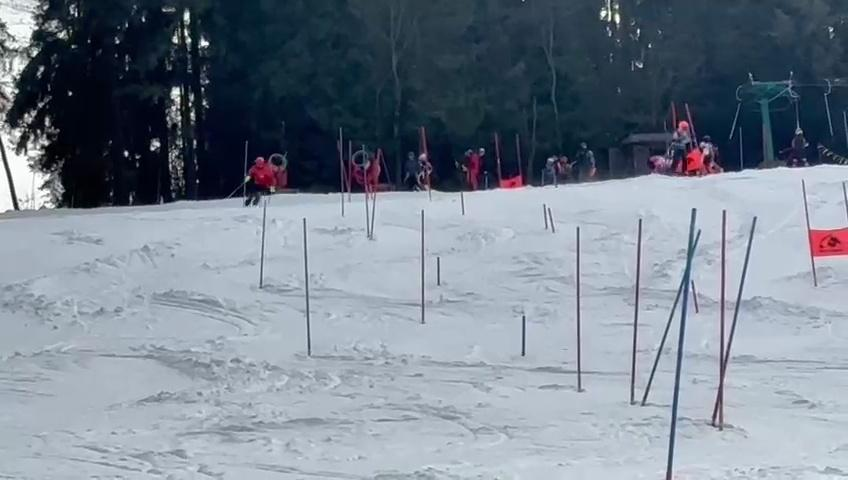gate: (656, 203, 700, 480), (642, 218, 704, 411), (714, 203, 757, 450), (294, 214, 328, 358), (566, 223, 594, 397), (623, 203, 645, 405), (796, 175, 828, 297), (362, 151, 392, 257), (413, 201, 434, 322), (417, 123, 435, 200), (335, 125, 348, 221), (237, 137, 250, 208), (540, 200, 559, 233), (520, 315, 533, 357), (455, 188, 469, 219), (434, 253, 443, 288)
